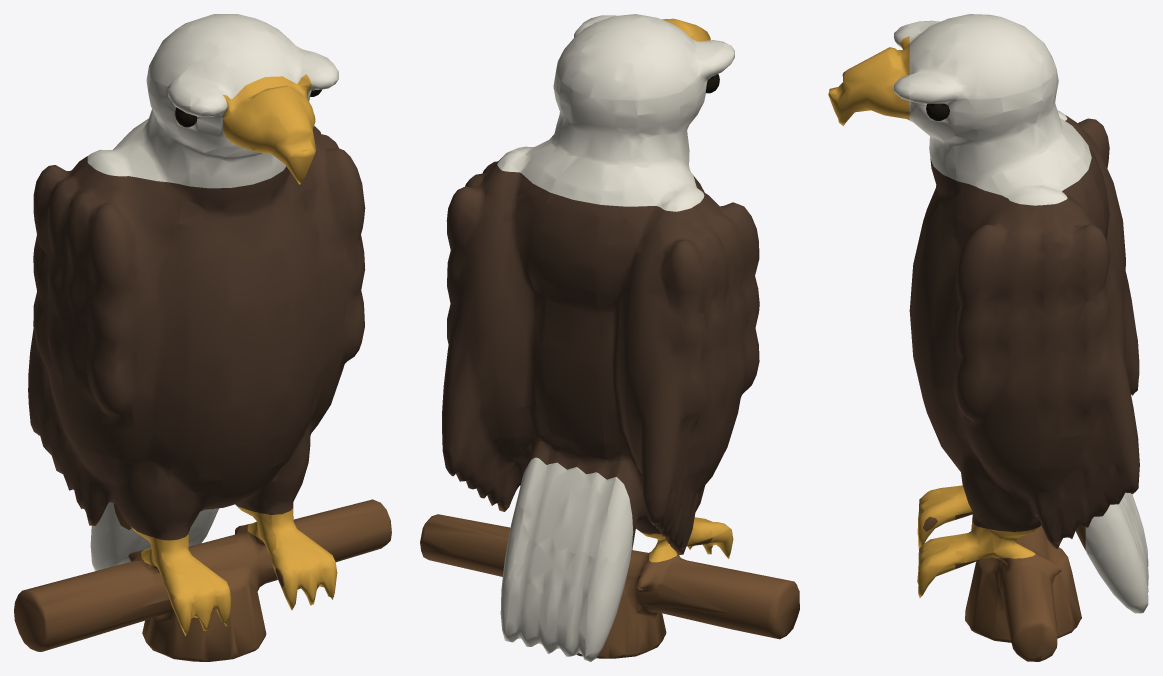
The model's file is NEW_RECOVERY_132_LOD2.glb.
3 views of the same model, side by side, from view 1: azimuth 30°, elevation 25°; view 2: azimuth 150°, elevation 25°; view 3: azimuth 270°, elevation 25° (orthographic). The views are drawn at different scales.
Visible parts, largest first — view 1: Eagle_static_sculpt; view 2: Eagle_static_sculpt; view 3: Eagle_static_sculpt.
Part boxes in pixels (x1,y1,x2,y2): Eagle_static_sculpt: (14, 14, 391, 661); Eagle_static_sculpt: (420, 14, 799, 661); Eagle_static_sculpt: (828, 14, 1148, 661).
Bounding box in the file's own units: 1.67 × 2.74 × 1.33.
